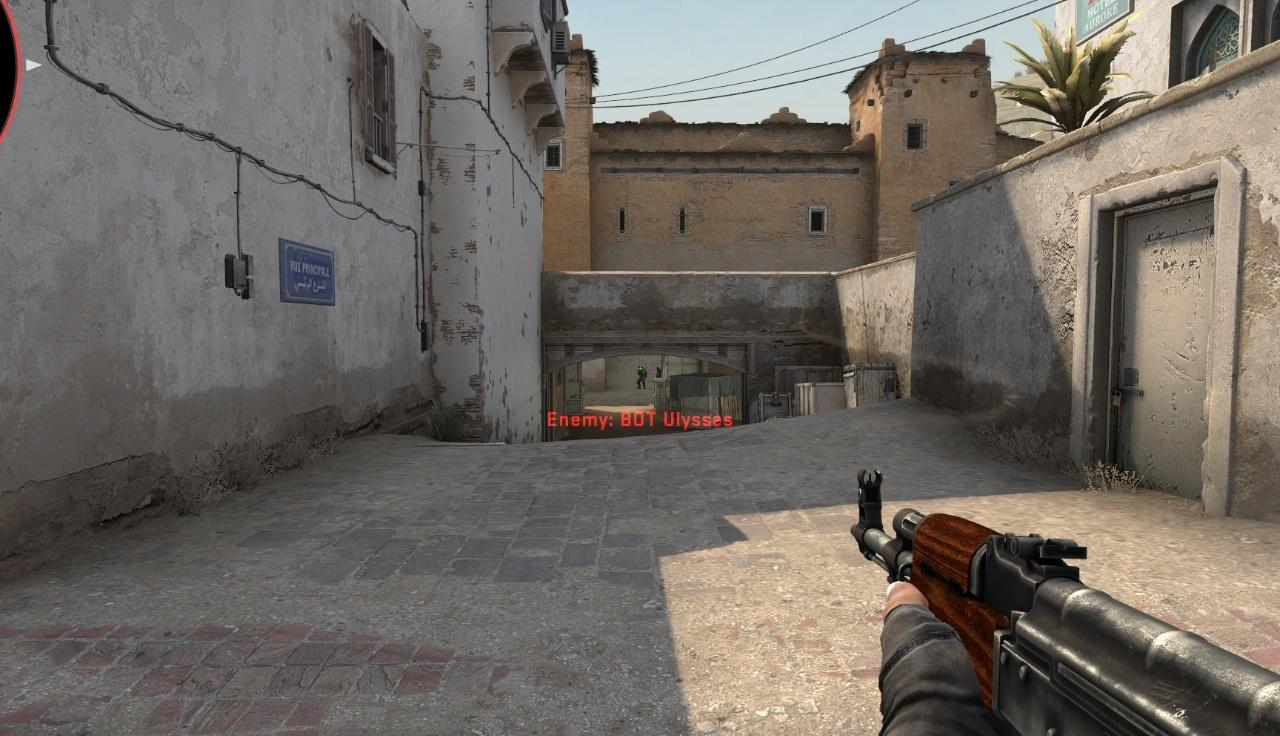ct: (638, 367, 646, 390)
rifle: (851, 467, 1280, 736)
